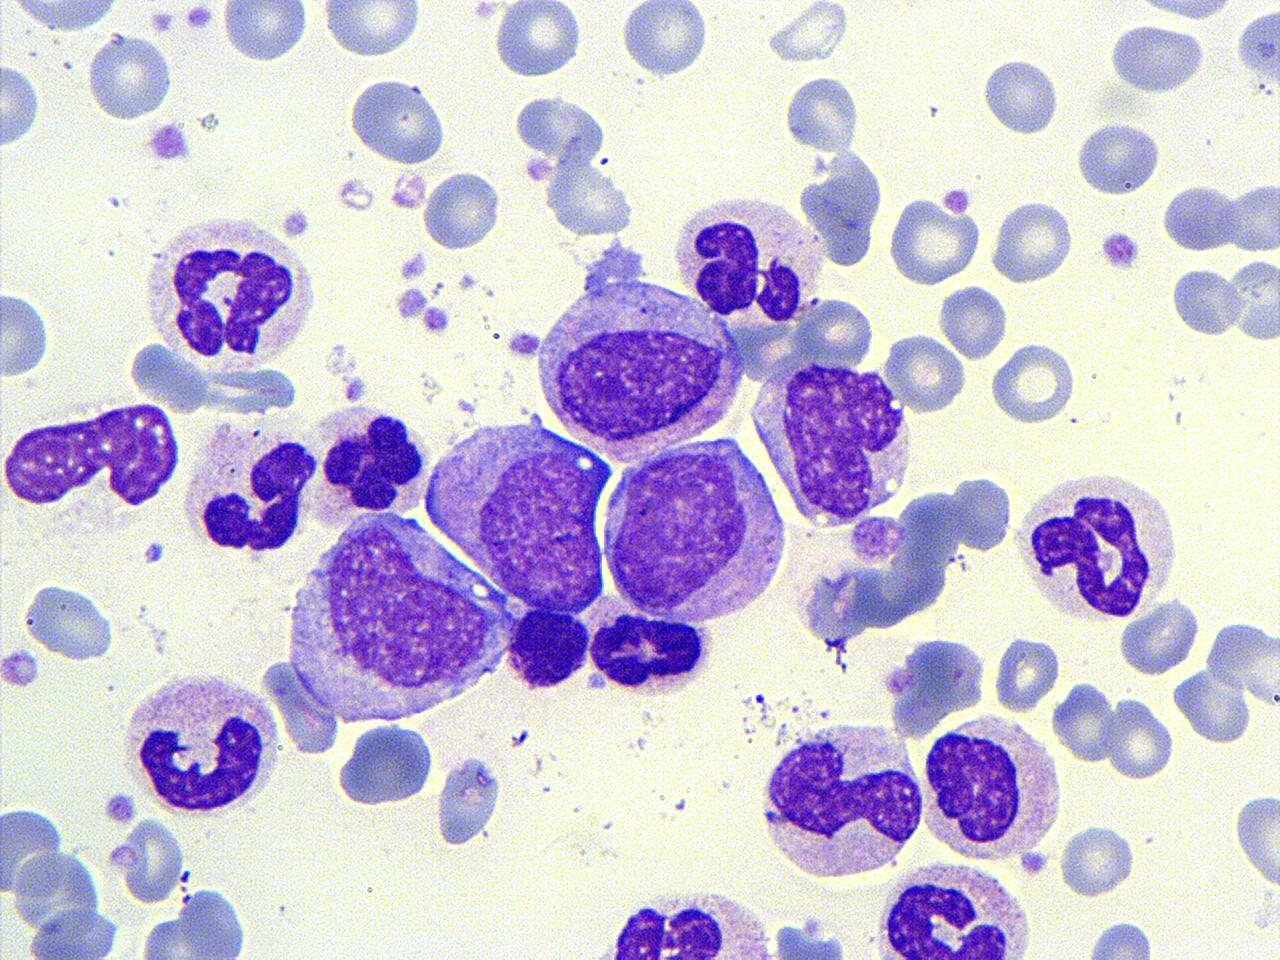Platelets: (1080, 918, 1158, 960), (1096, 227, 1144, 275), (1, 644, 42, 692), (145, 121, 190, 163), (102, 788, 138, 828), (394, 284, 428, 322), (280, 205, 312, 240), (506, 328, 543, 358), (1018, 849, 1052, 878), (420, 304, 451, 336), (940, 187, 972, 217), (398, 251, 428, 281), (183, 3, 215, 32), (342, 372, 369, 405), (148, 9, 176, 35), (142, 539, 166, 565), (456, 272, 478, 289), (430, 281, 446, 297)
RBC: (882, 632, 992, 744), (793, 151, 885, 272), (1, 406, 108, 507), (99, 398, 184, 510), (885, 193, 983, 287), (84, 30, 176, 122), (988, 338, 1080, 427), (884, 326, 972, 419), (988, 196, 1076, 286), (506, 601, 594, 692), (492, 0, 584, 80), (782, 73, 862, 155), (119, 816, 187, 909), (1057, 822, 1139, 899), (319, 2, 424, 62), (1105, 695, 1175, 783), (992, 632, 1062, 716), (221, 1, 311, 66), (1168, 263, 1244, 340), (1053, 676, 1117, 766), (937, 280, 1008, 362), (1161, 182, 1239, 254), (1233, 784, 1280, 895), (1224, 179, 1278, 257), (0, 58, 45, 151)
WBC: (280, 506, 512, 730), (531, 264, 746, 464), (592, 427, 792, 626), (422, 406, 614, 610), (784, 488, 966, 654), (756, 715, 926, 885), (141, 210, 321, 369), (752, 358, 918, 528), (1010, 465, 1182, 627), (117, 663, 284, 820), (913, 711, 1066, 866), (668, 187, 822, 328), (178, 413, 321, 562), (874, 858, 1037, 959), (577, 880, 784, 959), (314, 402, 434, 522), (587, 600, 717, 702), (884, 632, 988, 746), (796, 147, 888, 269), (1, 407, 107, 508), (132, 880, 260, 960), (334, 716, 441, 810), (346, 72, 449, 168), (99, 400, 184, 512), (888, 194, 984, 289), (16, 580, 121, 667), (1105, 19, 1211, 98), (988, 336, 1078, 428), (86, 30, 175, 122), (542, 156, 640, 240), (512, 90, 611, 171), (616, 0, 712, 80), (509, 602, 593, 692), (490, 0, 584, 80), (1170, 659, 1254, 747), (420, 166, 503, 254), (1073, 119, 1163, 199), (1116, 594, 1200, 678), (434, 751, 504, 851), (979, 54, 1061, 138), (783, 70, 862, 156), (318, 1, 423, 61), (1051, 676, 1119, 766), (1056, 823, 1136, 899), (1168, 262, 1244, 341), (1160, 179, 1238, 255), (1, 278, 57, 382), (21, 905, 128, 958), (220, 0, 309, 64), (1232, 787, 1280, 893), (1226, 252, 1280, 343), (1064, 918, 1172, 958), (0, 57, 45, 152), (4, 0, 130, 33), (1116, 0, 1252, 29), (1233, 7, 1280, 89)
